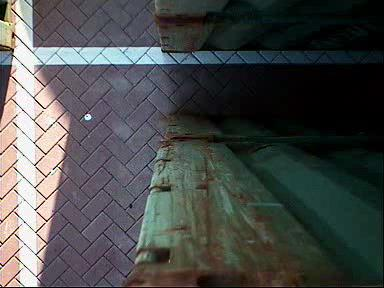groundmarker_2: (77, 64, 163, 103)
